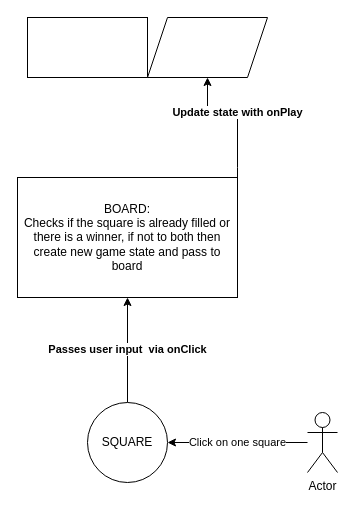
The diagram is 355 pixels wide and 511 high, and some of its shapes have lost their labels. The shapes that lost their labels are listed below. From the top down, each one's centre as x and y in pixels, then its label:
At pixel 87 47: "GAME".
At pixel 207 47: "State".
